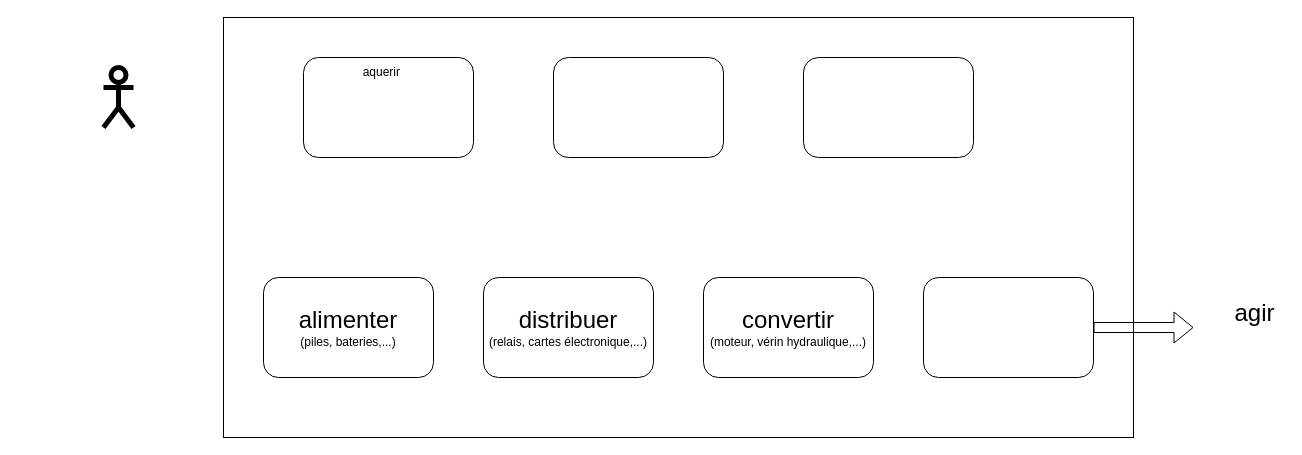
Image size: 1302x455. Some labels were removed from this diagram. The centre of each missing label's shape, as x and y in pixels:
transmettre (crémaillère, engrenage,...): [1008,327]
utilisateur met de l'eau dans le récipient et appui sur bouton ON: [118,97]
